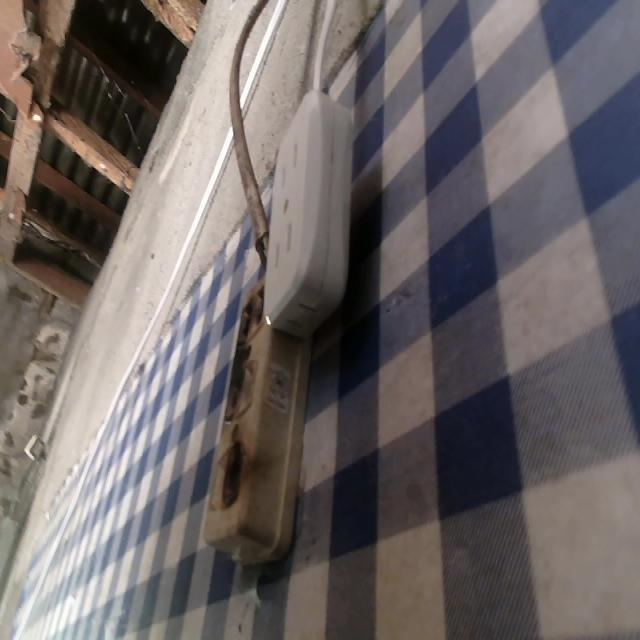-: (227, 280, 269, 340), (216, 437, 254, 503)
